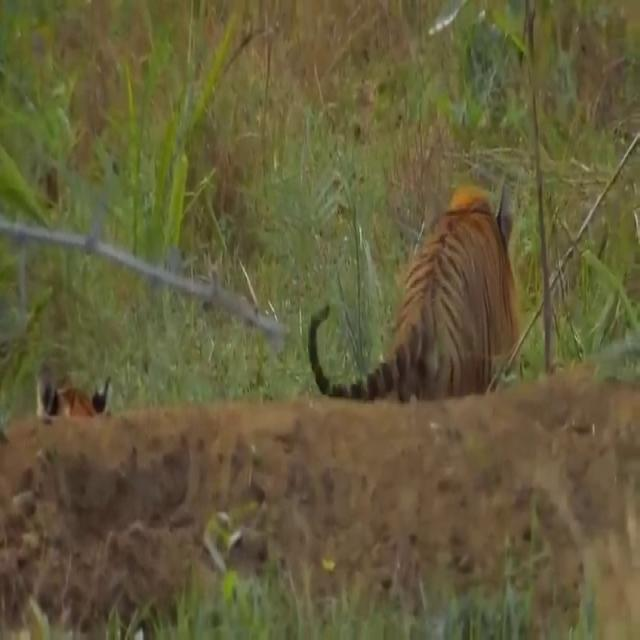tiger: (306, 170, 526, 403)
